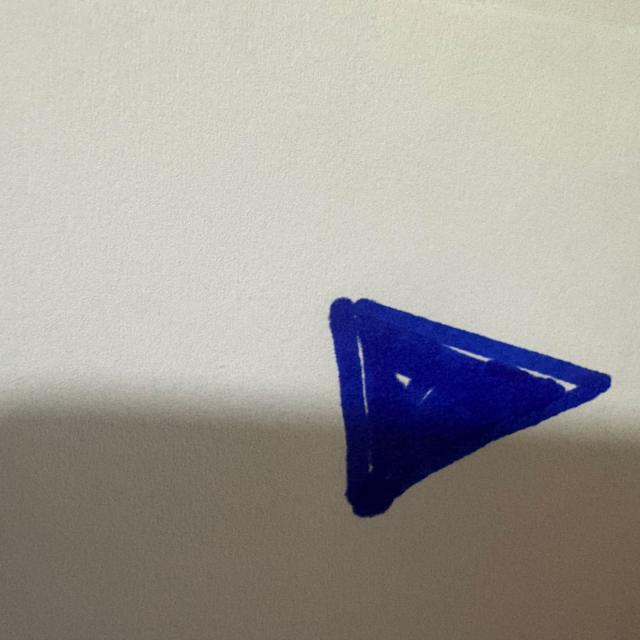Triangle: (330, 298, 610, 517)
